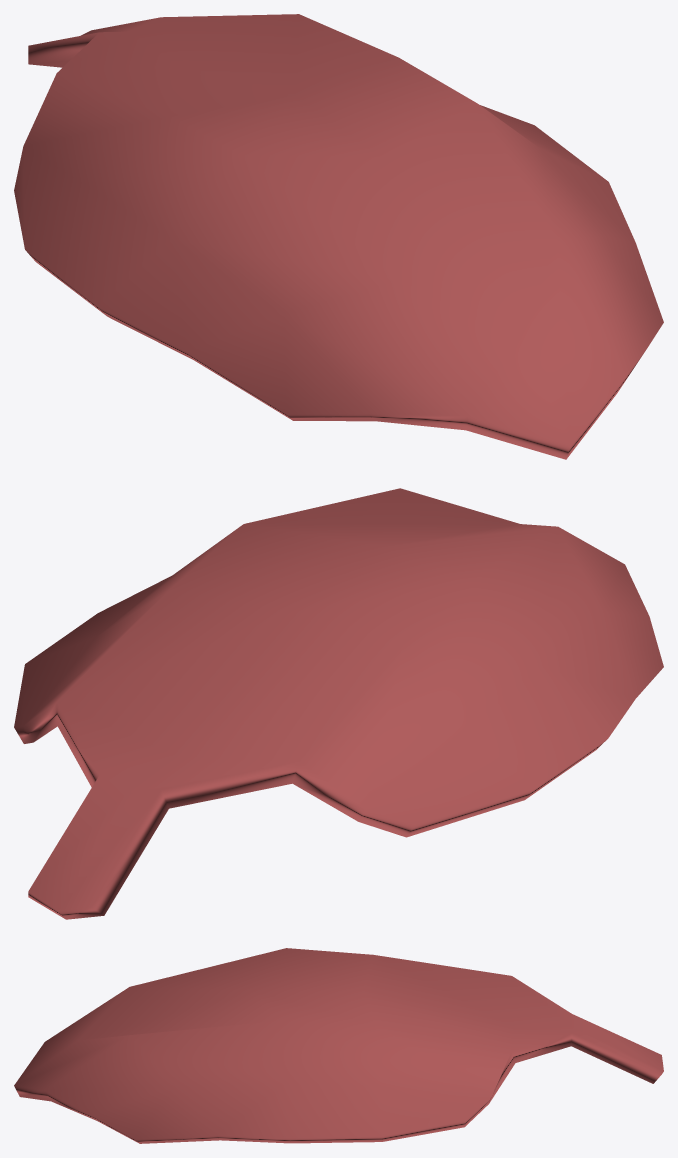
Rendered from SmallLeaf_mesh.fbx.
The picture shows the model from 3 angles, top to bottom: view 1: azimuth 30°, elevation 25°; view 2: azimuth 150°, elevation 25°; view 3: azimuth 270°, elevation 25°; orthographic projection. The views are drawn at different scales.
Visible parts, largest first — view 1: SmallLeaf01_lp; view 2: SmallLeaf01_lp; view 3: SmallLeaf01_lp.
Boxes of the visible parts, x1=… form: SmallLeaf01_lp: x1=14, y1=14, x2=663, y2=459; SmallLeaf01_lp: x1=14, y1=488, x2=663, y2=919; SmallLeaf01_lp: x1=14, y1=948, x2=663, y2=1143.
Bounding box in the file's own units: 0.5511 × 0.1844 × 0.958.
